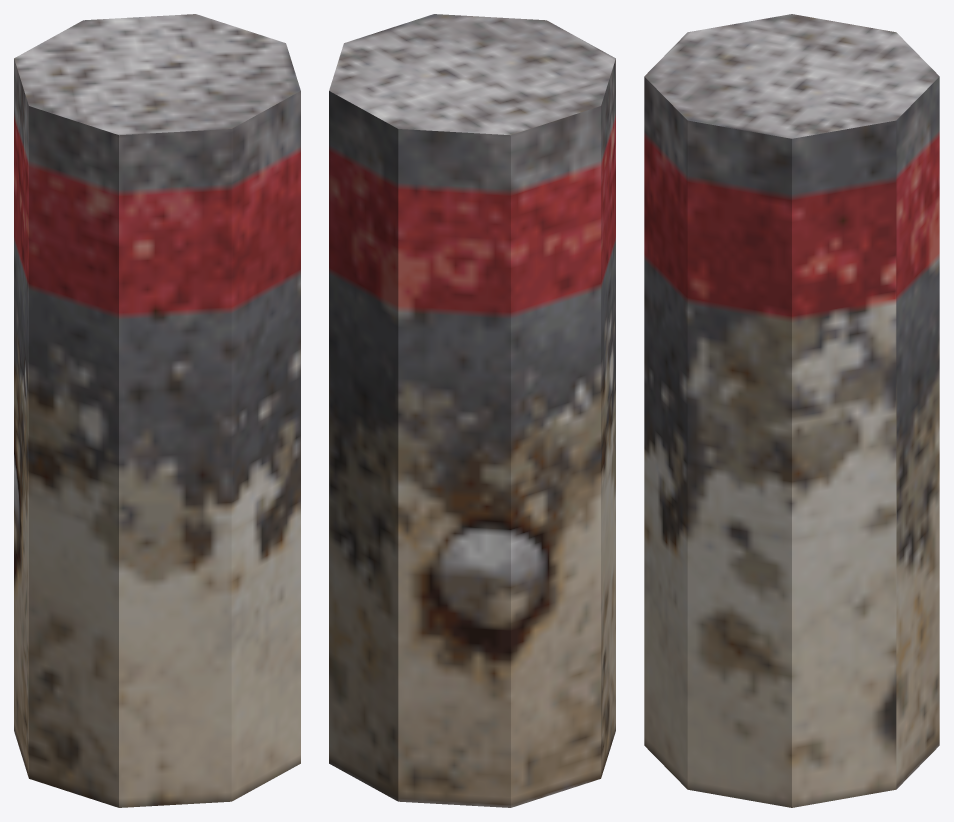
Rendered from Poller.fbx.
3 renders of one model, left to right at view 1: azimuth 30°, elevation 25°; view 2: azimuth 150°, elevation 25°; view 3: azimuth 270°, elevation 25°, orthographic.
Visible parts, largest first — view 1: Poller; view 2: Poller; view 3: Poller.
Part boxes in pixels (x1=…): Poller: x1=14, y1=14, x2=300, y2=807; Poller: x1=329, y1=14, x2=615, y2=807; Poller: x1=644, y1=14, x2=939, y2=807.
Size of the model in its own units: 40 by 100 by 40.
1 material, 1 textured.
